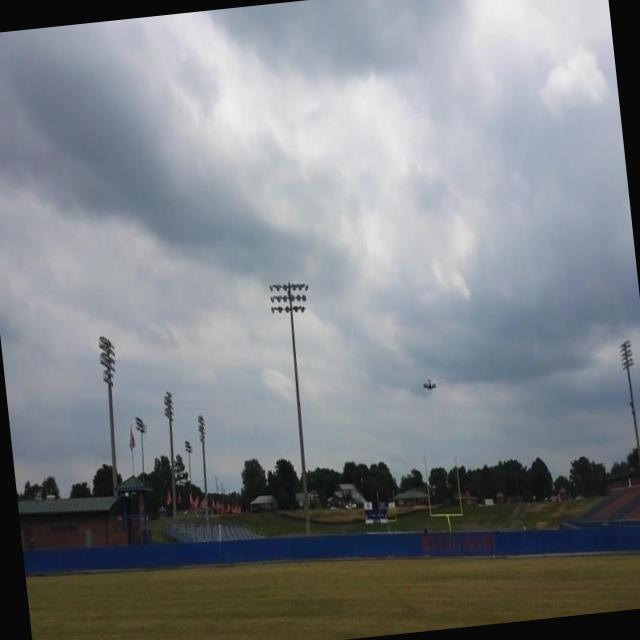drone: (419, 377, 438, 394)
